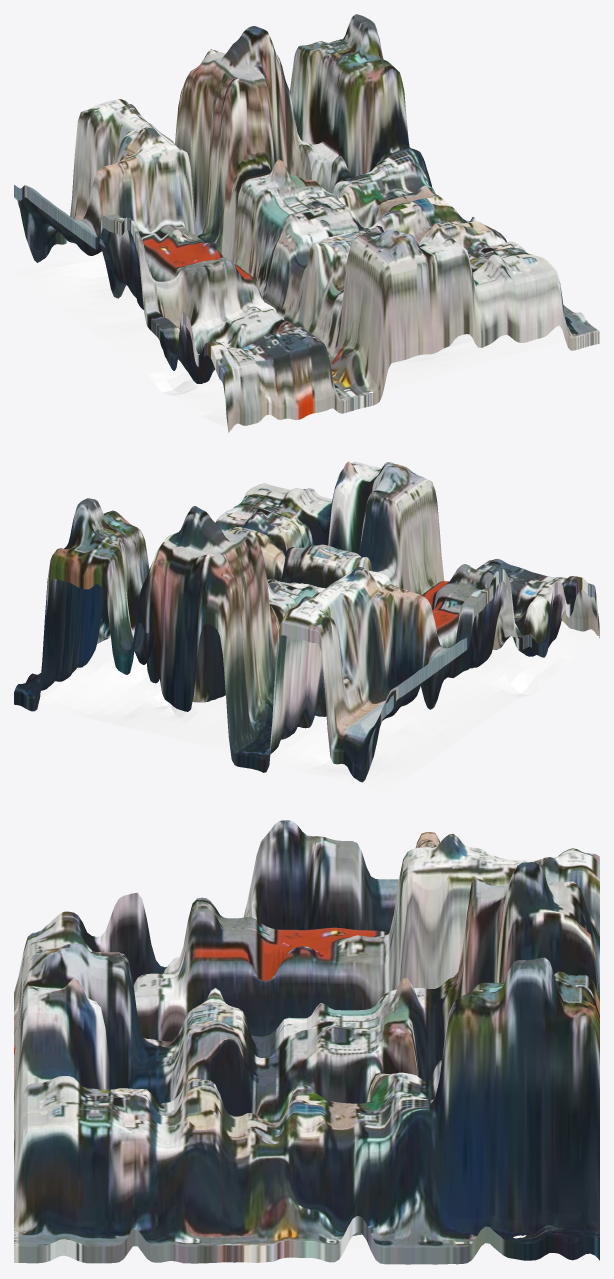
3 renders of one model, top to bottom at view 1: azimuth 30°, elevation 25°; view 2: azimuth 150°, elevation 25°; view 3: azimuth 270°, elevation 25°, orthographic. The views are drawn at different scales.
Visible parts, largest first — view 1: surface, ground; view 2: surface, ground; view 3: surface.
Part boxes in pixels (<box>): surface: <box>14,14,599,432</box>; ground: <box>14,251,565,429</box>; surface: <box>14,461,599,782</box>; ground: <box>39,626,599,791</box>; surface: <box>14,820,599,1264</box>.
Bounding box in the file's own units: 128 × 74.49 × 128.
2 materials, 1 textured.
